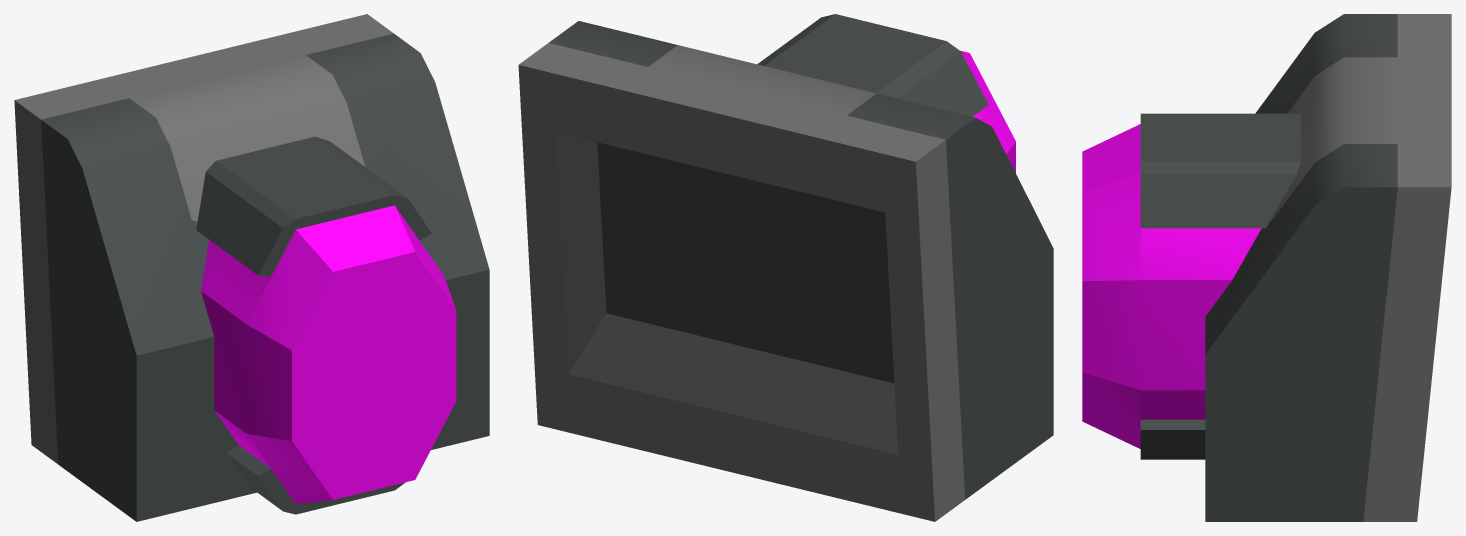
File: RadioClock_for_Car_model.fbx
The picture shows the model from 3 angles, left to right: view 1: azimuth 30°, elevation 25°; view 2: azimuth 150°, elevation 25°; view 3: azimuth 270°, elevation 25°; orthographic projection. The views are drawn at different scales.
Parts seen in each view (by area): view 1: engine_intakeArrow_0, engine_high_1; view 2: engine_intakeArrow_0, engine_high_1; view 3: engine_intakeArrow_0, engine_high_1.
Part boxes in pixels (x1=…): engine_intakeArrow_0: x1=14, y1=14, x2=489, y2=521; engine_high_1: x1=196, y1=136, x2=456, y2=514; engine_intakeArrow_0: x1=518, y1=21, x2=1053, y2=521; engine_high_1: x1=757, y1=14, x2=1015, y2=172; engine_intakeArrow_0: x1=1205, y1=14, x2=1451, y2=521; engine_high_1: x1=1082, y1=113, x2=1301, y2=459.
Bounding box in the file's own units: 10 × 9 × 9.
